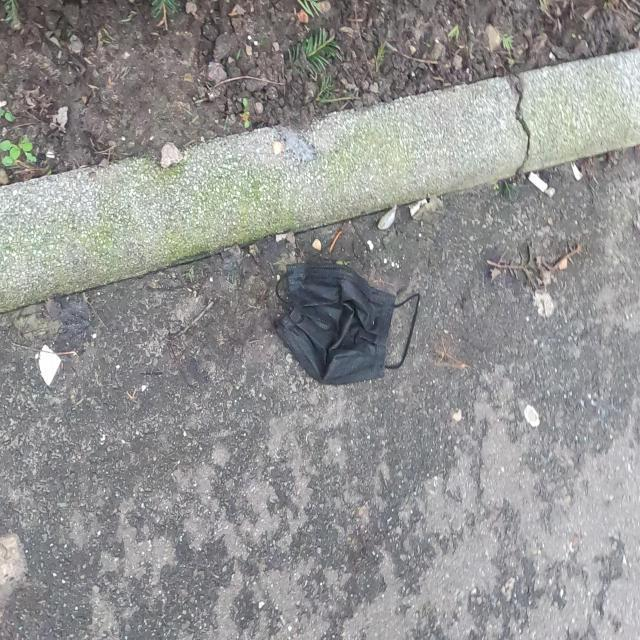Mask: (271, 261, 422, 387)
